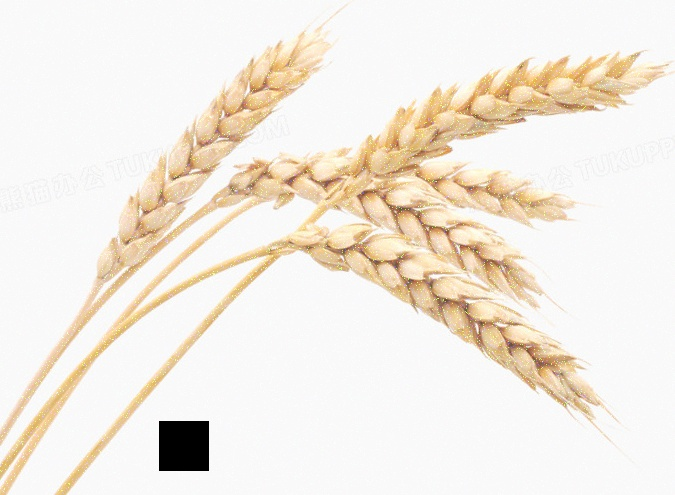wheat: (78, 27, 322, 312), (301, 41, 670, 227), (271, 228, 606, 423)
